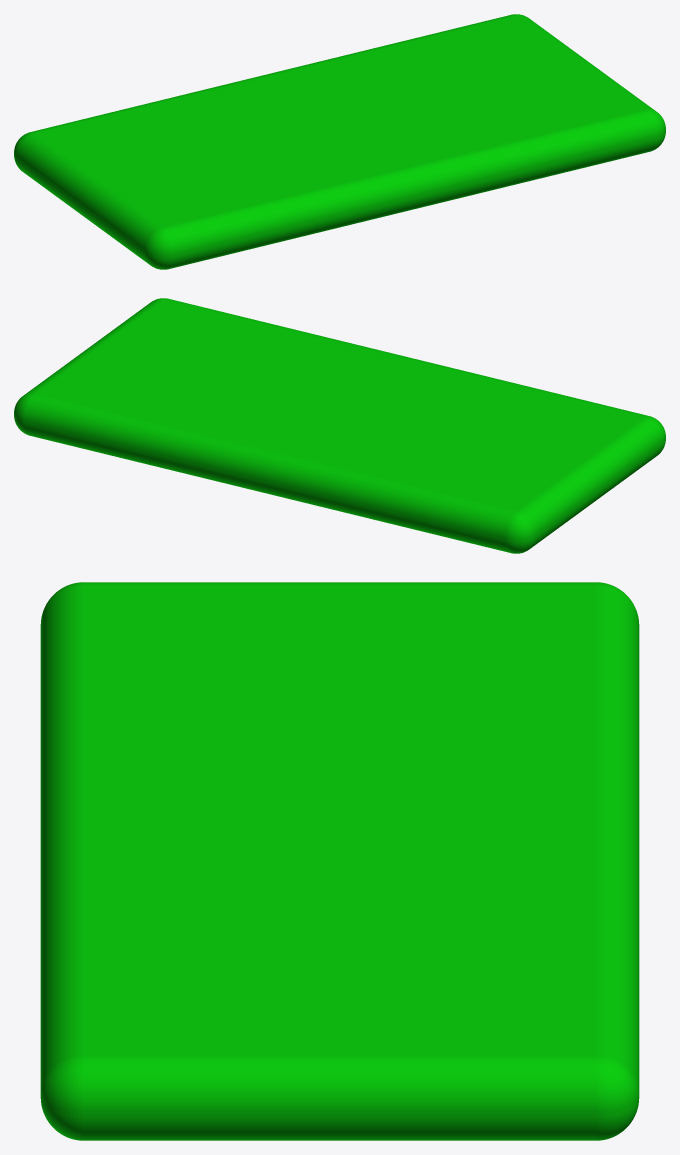
Rendered from PlayerPaddle.fbx.
3 views of the same model, one above another, from view 1: azimuth 30°, elevation 25°; view 2: azimuth 150°, elevation 25°; view 3: azimuth 270°, elevation 25° (orthographic). The views are drawn at different scales.
Visible parts, largest first — view 1: Cube.010; view 2: Cube.010; view 3: Cube.010.
Part boxes in pixels (left/top/right/bottom): Cube.010: left=14, top=14, right=665, bottom=269; Cube.010: left=14, top=298, right=665, bottom=553; Cube.010: left=40, top=582, right=639, bottom=1140.
Bounding box in the file's own units: 4 × 0.3 × 2.
